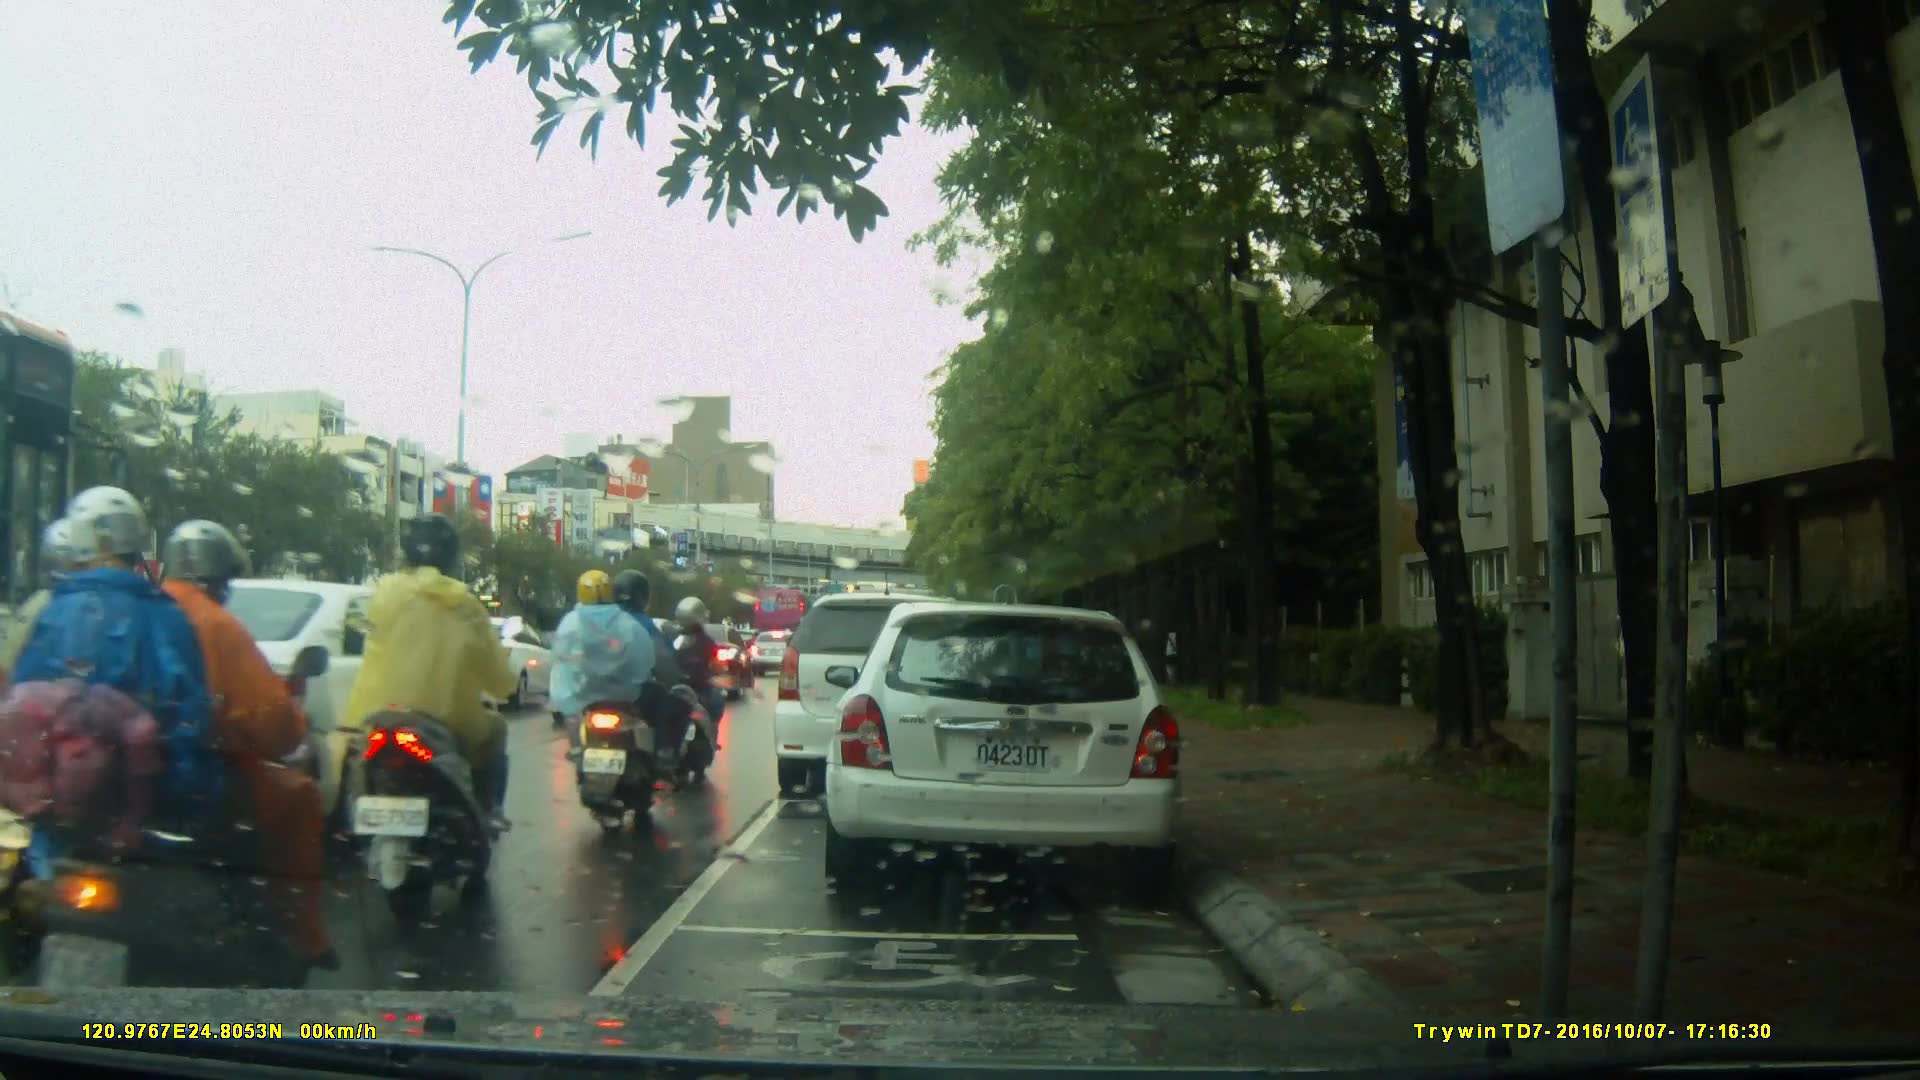rider: (7, 481, 324, 1034), (328, 509, 522, 921), (550, 563, 685, 832), (632, 593, 727, 804)
vehicle: (835, 594, 1194, 898), (47, 576, 470, 831), (776, 590, 1026, 784), (644, 610, 760, 697)
